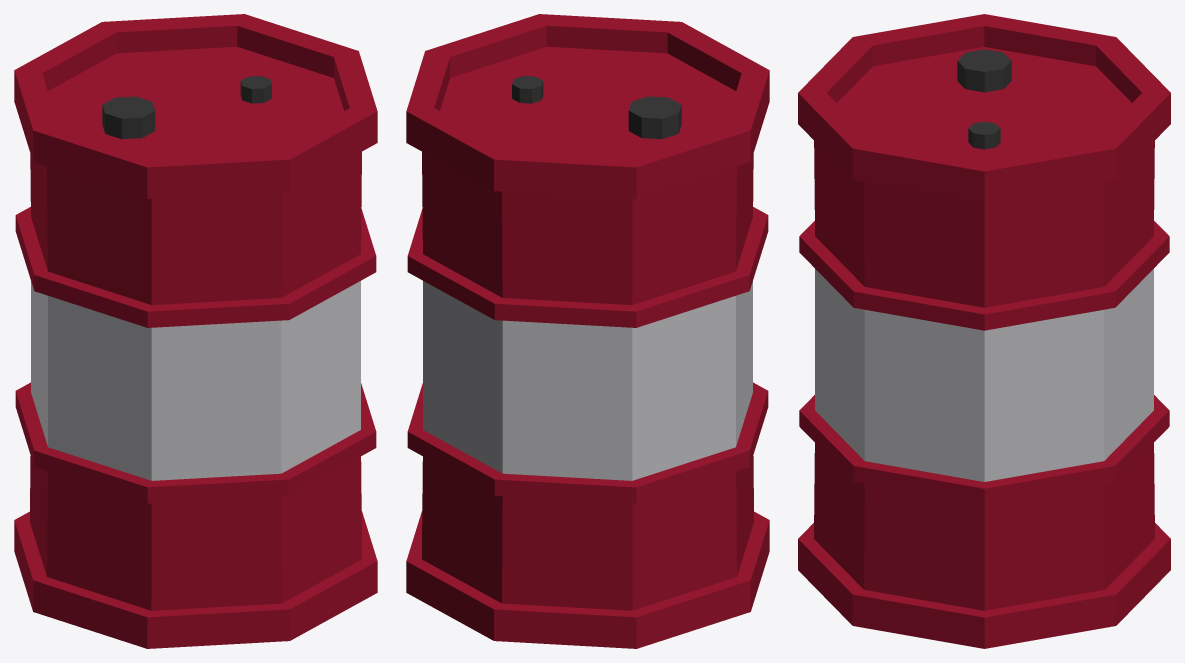
Rendered from explosive-barrel.obj.
The picture shows the model from 3 angles, left to right: view 1: azimuth 30°, elevation 25°; view 2: azimuth 150°, elevation 25°; view 3: azimuth 270°, elevation 25°; orthographic projection.
Parts seen in each view (by area): view 1: explosive-barrel.obj; view 2: explosive-barrel.obj; view 3: explosive-barrel.obj.
Boxes of the visible parts, bbox=[...] form: explosive-barrel.obj: bbox=[14, 14, 377, 648]; explosive-barrel.obj: bbox=[406, 14, 769, 648]; explosive-barrel.obj: bbox=[798, 14, 1170, 648].
Size of the model in its own units: 0.7119 by 1.01 by 0.7119.
